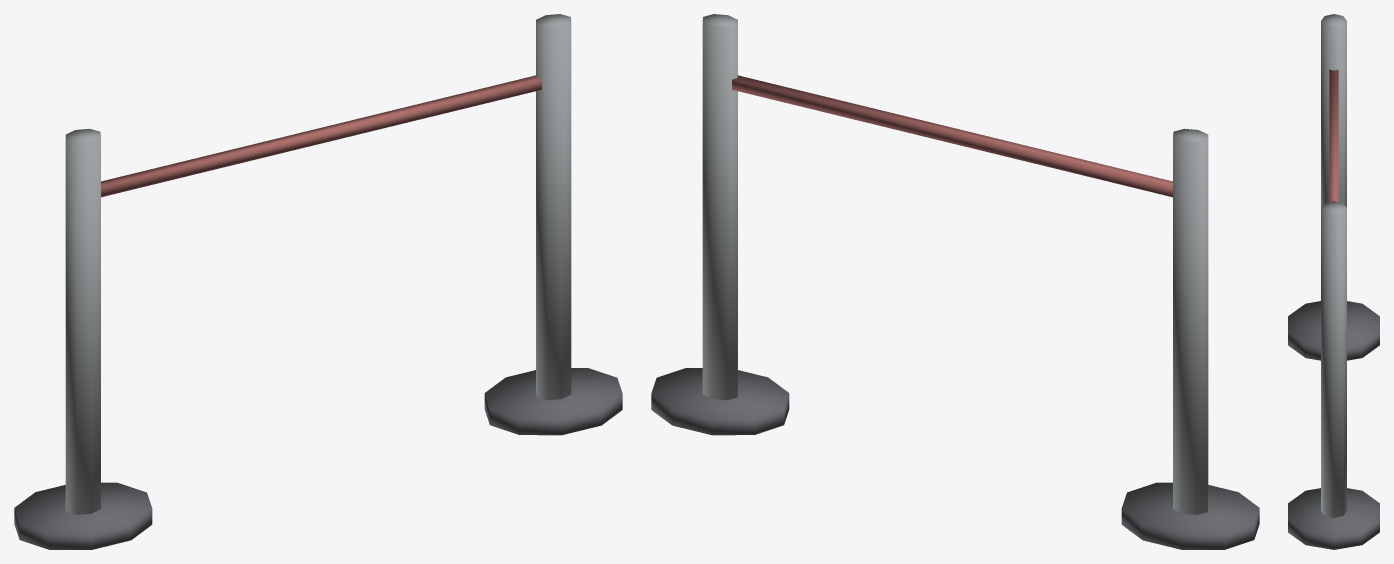
The model's file is museum_rope_barrier__wide.glb.
The picture shows the model from 3 angles, left to right: view 1: azimuth 30°, elevation 25°; view 2: azimuth 150°, elevation 25°; view 3: azimuth 270°, elevation 25°; orthographic projection. The views are drawn at different scales.
Visible parts, largest first — view 1: world; view 2: world; view 3: world.
Part boxes in pixels (x1=…): world: x1=14, y1=14, x2=622, y2=549; world: x1=651, y1=14, x2=1259, y2=549; world: x1=1288, y1=14, x2=1379, y2=549.
Size of the model in its own units: 1.51 by 0.94 by 0.2473.
